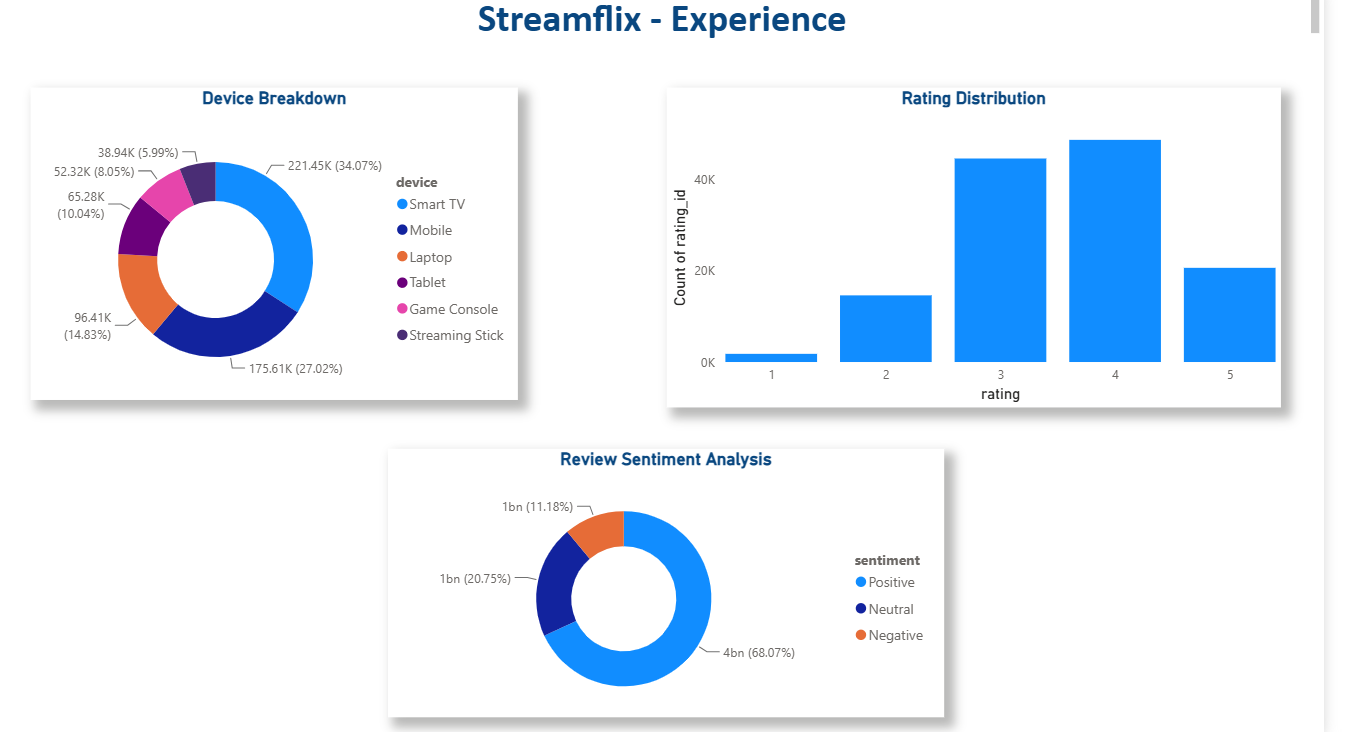

The dashboard page shown, as its layout file describes it:
{"tool":"powerbi","page":{"name":"Experience","canvas":[1280,720],"ordinal":3},"visuals":[{"type":"textbox","box":[9.6,0,1270.7,57.6],"z":0},{"type":"donutChart","title":"Device Breakdown","fields":{"Category":["watch_history.device"],"Y":["CountNonNull(watch_history.watch_id)"]},"box":[31.6,94.7,470.7,301.9],"z":1000},{"type":"clusteredColumnChart","title":"Rating Distribution","fields":{"Category":["ratings.rating"],"Y":["CountNonNull(ratings.rating_id)"]},"box":[644.9,94.7,592.8,308.7],"z":2000},{"type":"donutChart","title":"Review Sentiment Analysis","fields":{"Category":["reviews.sentiment"],"Y":["Sum(reviews.review_id)"]},"box":[376,443.2,536.5,259.3],"z":3000}]}

Visuals, with their boxes on the page's 1280x720 design canvas (x1, y1, x2, y2). These are canvas units, not pixel positions in the 1347x732 screenshot, which may show the page scaled, cropped or inside an application window:
textbox: region(10, 0, 1280, 58)
"Device Breakdown" donutChart: region(32, 95, 502, 397)
"Rating Distribution" clusteredColumnChart: region(645, 95, 1238, 403)
"Review Sentiment Analysis" donutChart: region(376, 443, 912, 702)
